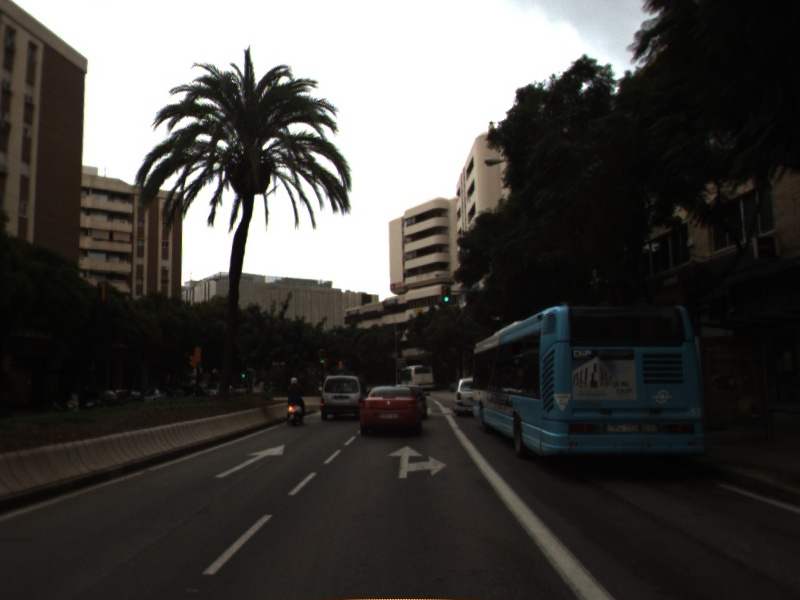STRAIGHT: (212, 442, 286, 480)
STRAIGHT_RIGHT: (385, 443, 449, 480)
